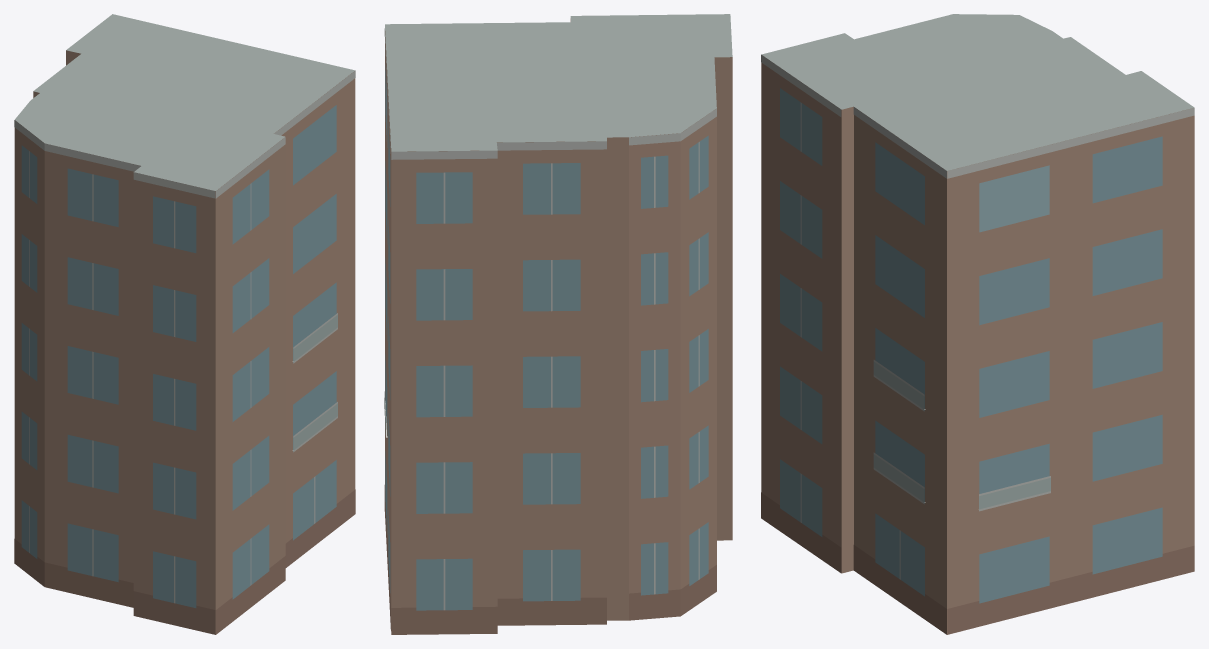
File: survey-upis-32689517.glb
3 renders of one model, left to right at view 1: azimuth 30°, elevation 25°; view 2: azimuth 150°, elevation 25°; view 3: azimuth 270°, elevation 25°, orthographic. The views are drawn at different scales.
Parts seen in each view (by area): view 1: survey-upis-32689517.tmp; view 2: survey-upis-32689517.tmp; view 3: survey-upis-32689517.tmp.
Part boxes in pixels (<box>): survey-upis-32689517.tmp: <box>14,14,355,634</box>; survey-upis-32689517.tmp: <box>384,14,732,634</box>; survey-upis-32689517.tmp: <box>761,14,1194,634</box>.
Bounding box in the file's own units: 10.43 × 14.35 × 12.16.
